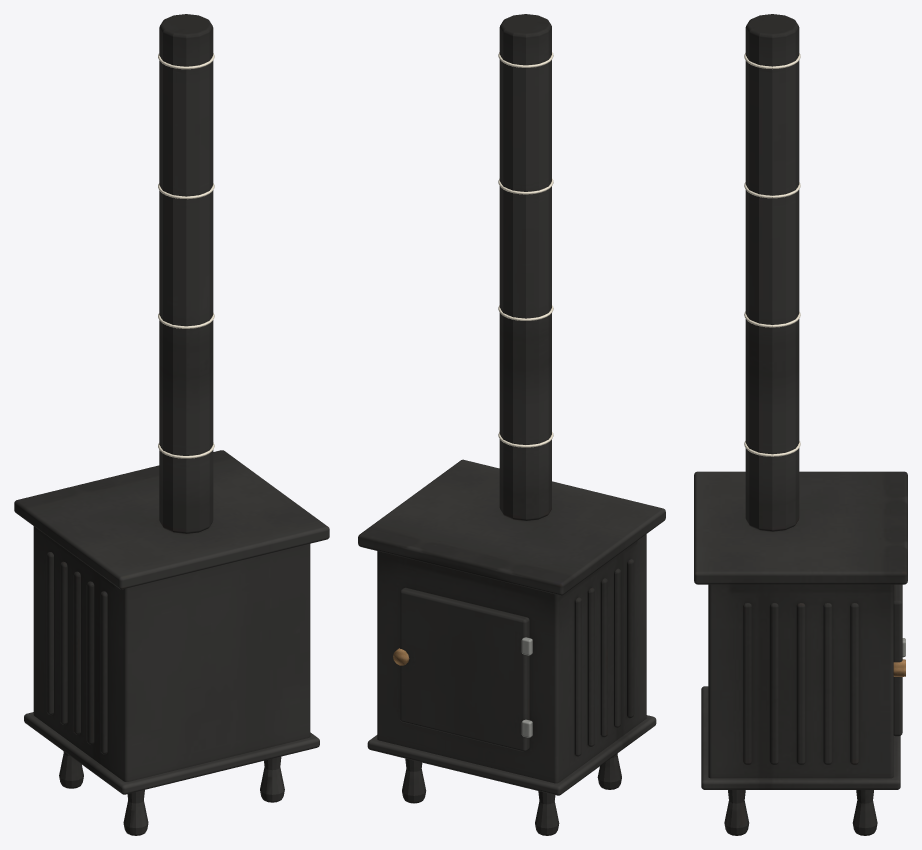
Rendered from stove_wood.glb.
3 renders of one model, left to right at view 1: azimuth 30°, elevation 25°; view 2: azimuth 150°, elevation 25°; view 3: azimuth 270°, elevation 25°, orthographic. The views are drawn at different scales.
Visible parts, largest first — view 1: stove_wood_felt_charcoal, stove_wood_thread; view 2: stove_wood_felt_charcoal, stove_wood_thread; view 3: stove_wood_felt_charcoal, stove_wood_thread.
Part boxes in pixels (left/top/right/bottom): stove_wood_felt_charcoal: left=14, top=14, right=329, bottom=835; stove_wood_thread: left=158, top=53, right=214, bottom=458; stove_wood_felt_charcoal: left=358, top=14, right=665, bottom=835; stove_wood_thread: left=498, top=52, right=553, bottom=447; stove_wood_felt_charcoal: left=694, top=14, right=907, bottom=835; stove_wood_thread: left=744, top=53, right=800, bottom=456.
Bounding box in the file's own units: 1.36 × 4.8 × 1.2.
Materials: 8 (6 with a texture image).
